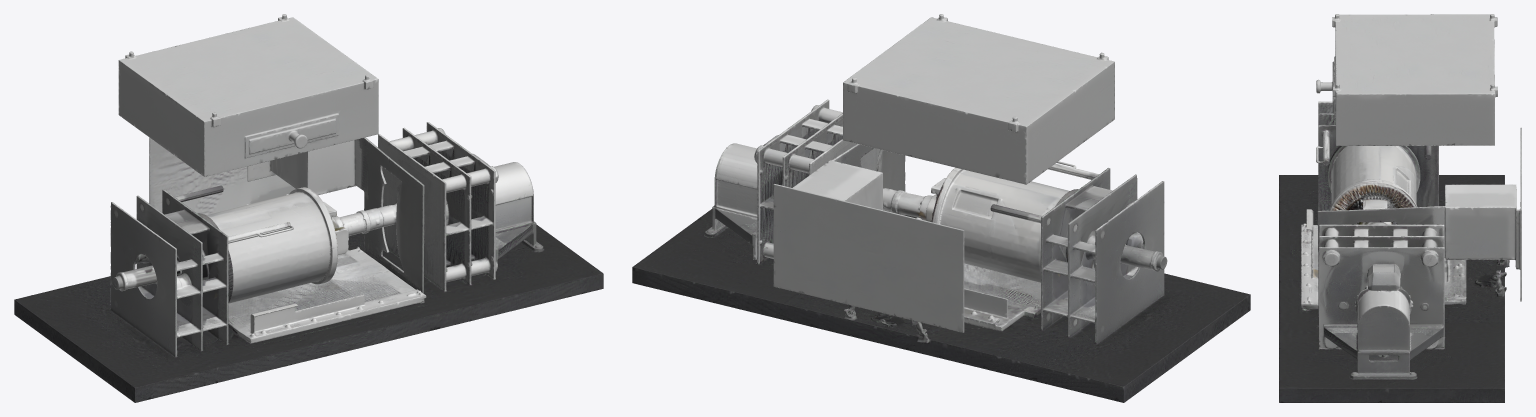
Rendered from SynCom.glb.
3 views of the same model, side by side, from view 1: azimuth 30°, elevation 25°; view 2: azimuth 150°, elevation 25°; view 3: azimuth 270°, elevation 25° (orthographic). The views are drawn at different scales.
Parts seen in each view (by area): view 1: mesh_node; view 2: mesh_node; view 3: mesh_node.
Part boxes in pixels (box(x1,y1,x2,y2)): mesh_node: box(14, 14, 603, 402); mesh_node: box(632, 14, 1250, 402); mesh_node: box(1279, 14, 1521, 402).
Bounding box in the file's own units: 1.9 × 0.9315 × 0.9109.
Materials: 1 (1 with a texture image).
